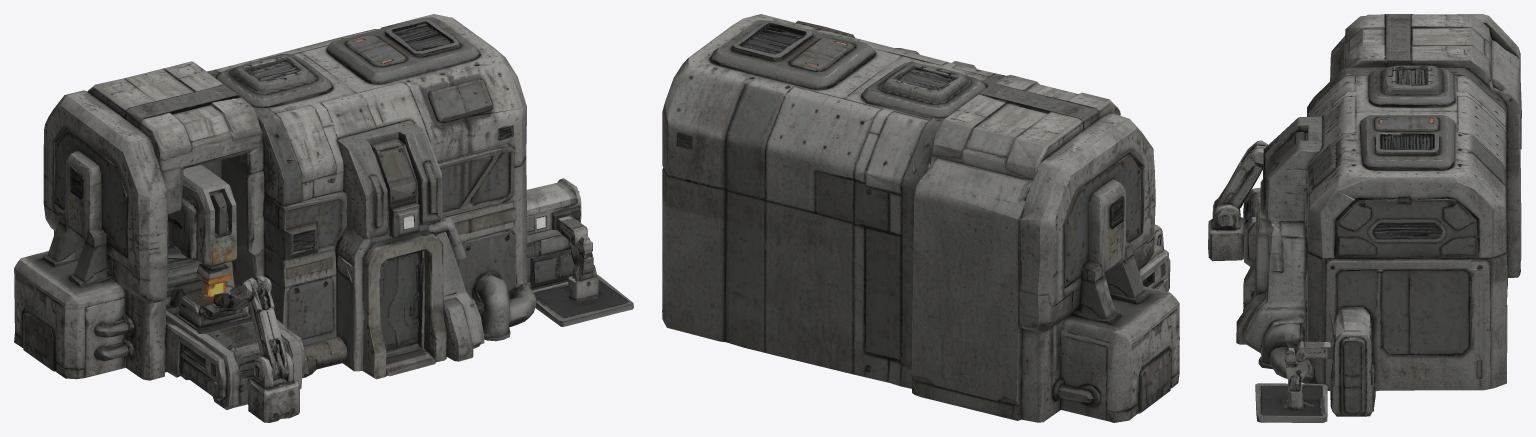
Rendered from conv.alloy_works.glb.
3 views of the same model, side by side, from view 1: azimuth 30°, elevation 25°; view 2: azimuth 150°, elevation 25°; view 3: azimuth 270°, elevation 25° (orthographic). The views are drawn at different scales.
Parts seen in each view (by area): view 1: body; view 2: body; view 3: body.
Part boxes in pixels (left/top/right/bottom): body: left=14, top=14, right=633, bottom=422; body: left=662, top=14, right=1179, bottom=422; body: left=1208, top=14, right=1521, bottom=422.
Size of the model in its own units: 2 by 0.9288 by 1.18.
1 material, 1 textured.
